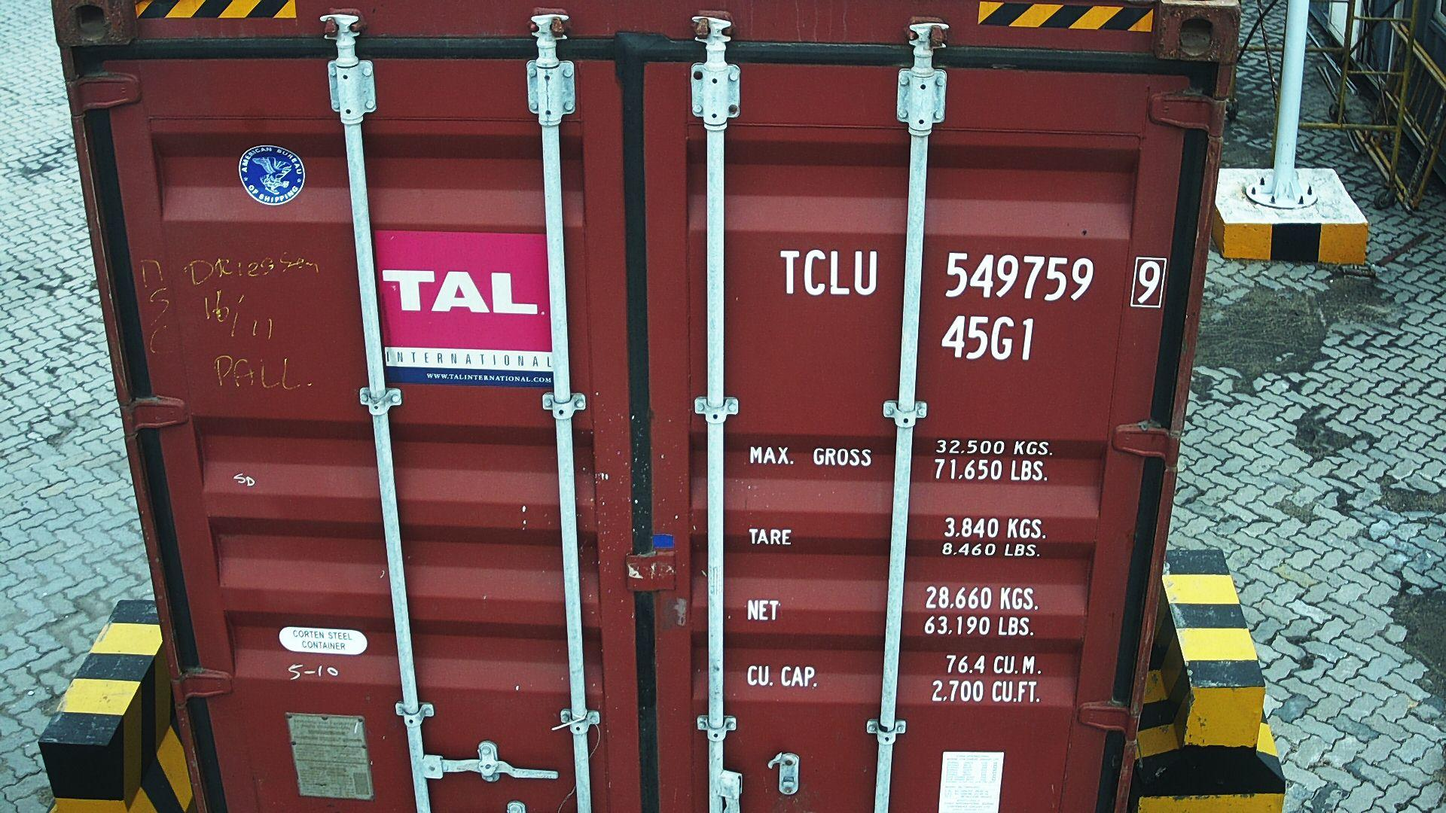container-numbers: (775, 245, 1170, 312), (938, 312, 1039, 364)
